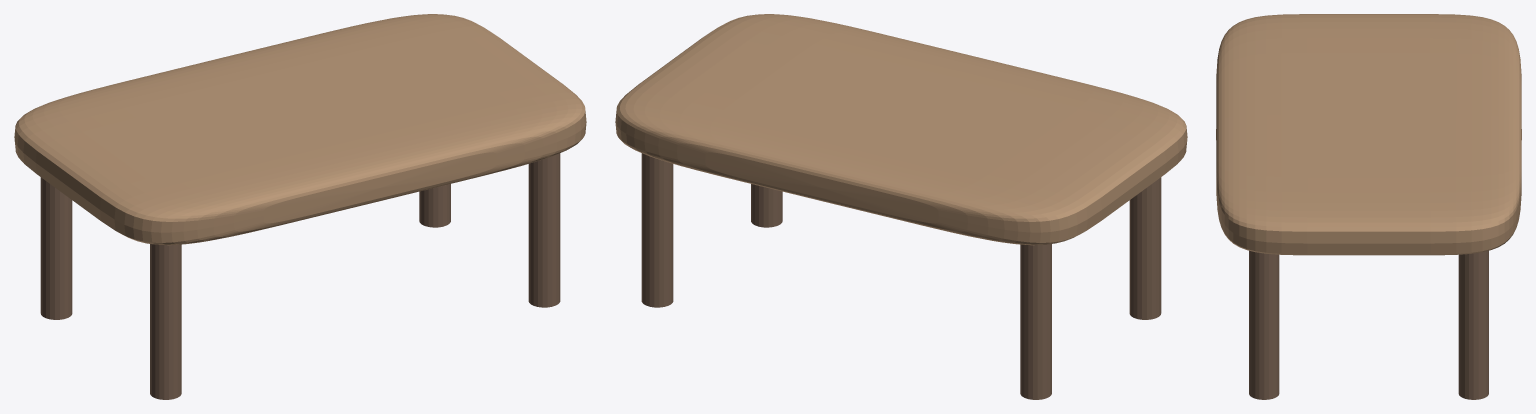
Rendered from coffee_table.glb.
The picture shows the model from 3 angles, left to right: view 1: azimuth 30°, elevation 25°; view 2: azimuth 150°, elevation 25°; view 3: azimuth 270°, elevation 25°; orthographic projection. The views are drawn at different scales.
Visible parts, largest first — view 1: Top, Leg_1, Leg_3, Leg_0, Leg_2; view 2: Top, Leg_0, Leg_2, Leg_1, Leg_3; view 3: Top, Leg_2, Leg_3.
Boxes of the visible parts, x1,y1,x2,y2 form: Top: (14,14,586,245); Leg_1: (150,244,181,399); Leg_3: (528,153,560,307); Leg_0: (40,177,72,319); Leg_2: (419,184,450,227); Top: (615,14,1187,245); Leg_0: (1020,244,1051,399); Leg_2: (641,153,673,307); Leg_1: (1129,177,1161,319); Leg_3: (751,184,782,227); Top: (1216,14,1521,255); Leg_2: (1458,250,1488,399); Leg_3: (1249,250,1279,399).
Bounding box in the file's own units: 1.18 × 0.48 × 0.7.
